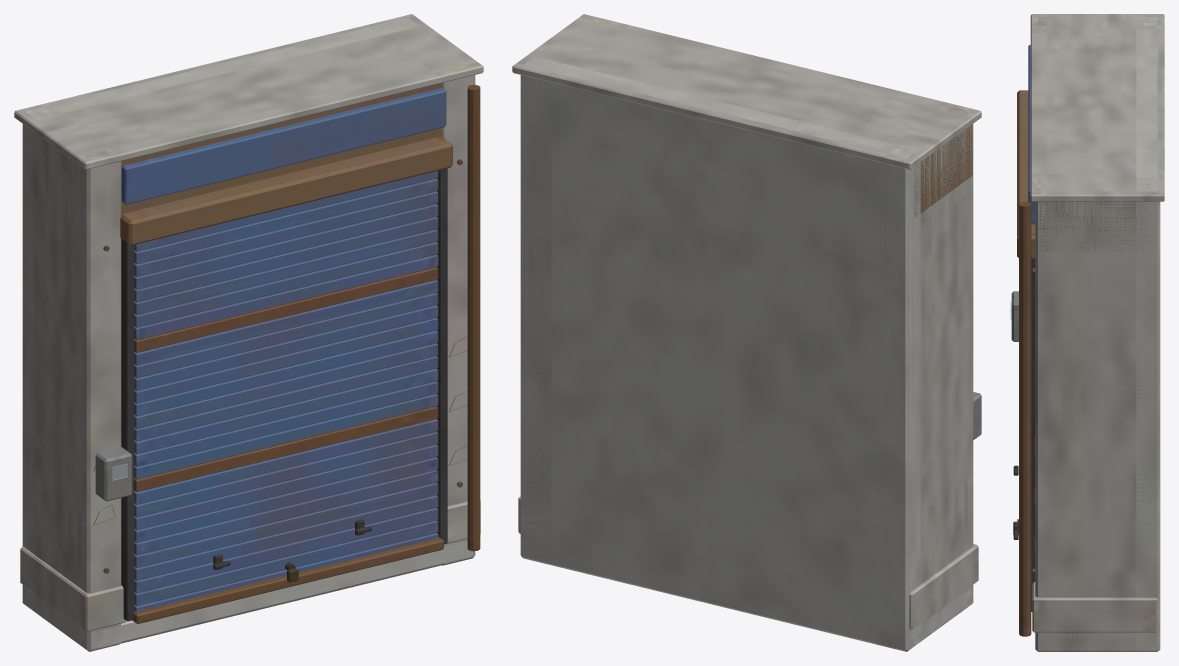
Rendered from R17_shop_front_modules_v2.glb.
3 renders of one model, left to right at view 1: azimuth 30°, elevation 25°; view 2: azimuth 150°, elevation 25°; view 3: azimuth 270°, elevation 25°, orthographic. The views are drawn at different scales.
Parts seen in each view (by area): view 1: Foundation plinth; view 2: Foundation plinth; view 3: Foundation plinth.
Boxes of the visible parts, bbox=[...] form: Foundation plinth: bbox=[14, 14, 483, 651]; Foundation plinth: bbox=[512, 14, 981, 651]; Foundation plinth: bbox=[1010, 14, 1164, 651].
Bounding box in the file's own units: 4.23 × 5 × 1.52.
10 materials, 9 textured.
